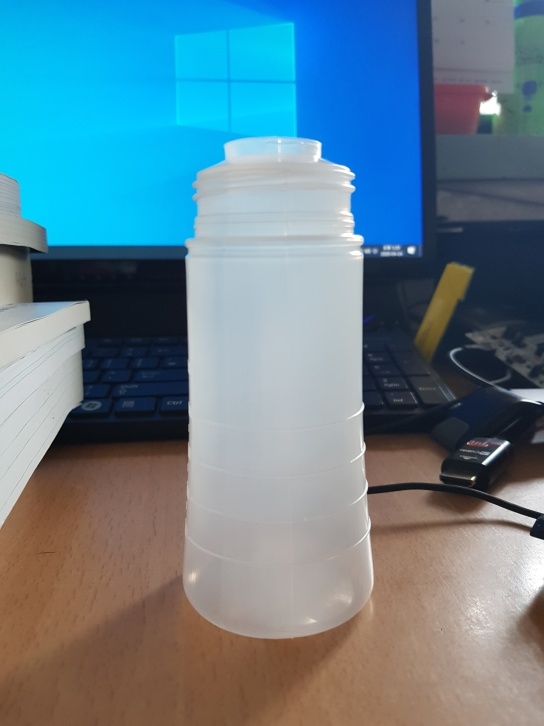Plastic: (182, 136, 378, 641)
